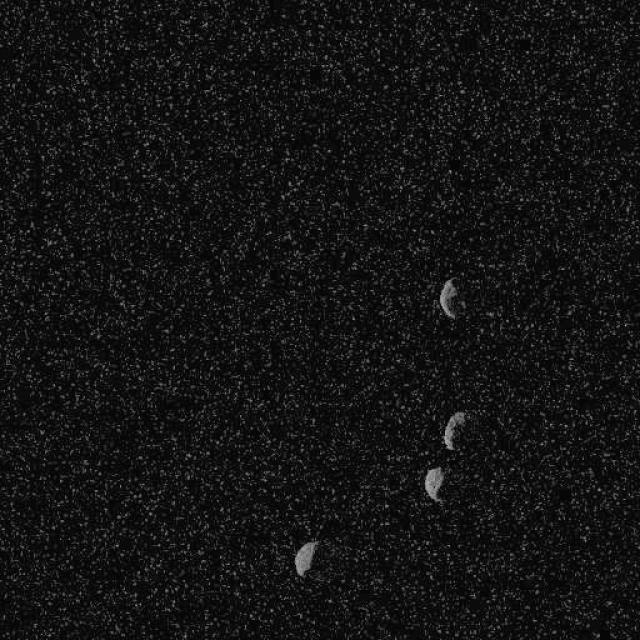D2: (438, 275, 462, 319), (292, 540, 318, 578), (442, 410, 466, 450), (422, 465, 443, 503)
